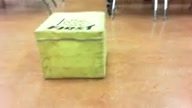cube: (34, 12, 106, 80)
